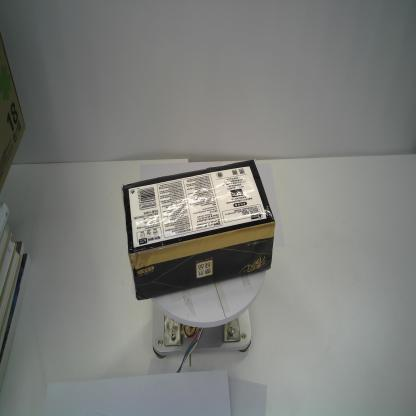Tissue: (122, 157, 276, 301)
